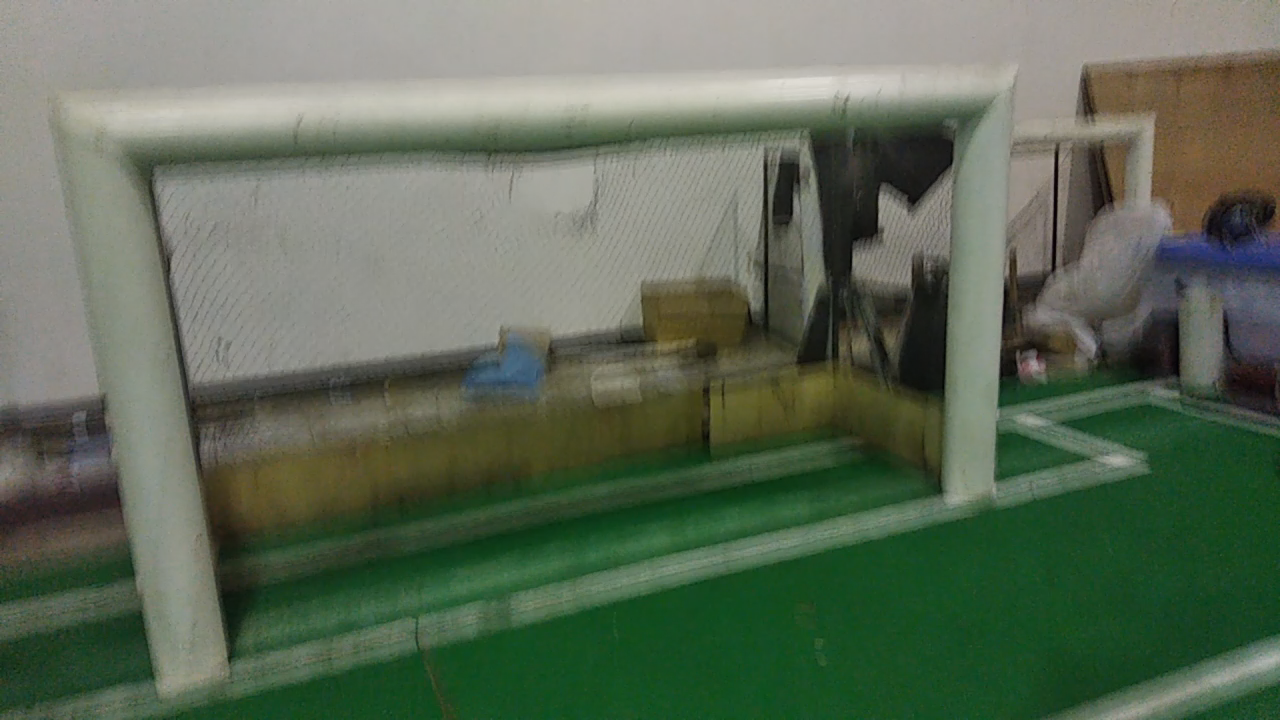gawang: (30, 42, 1026, 719)
